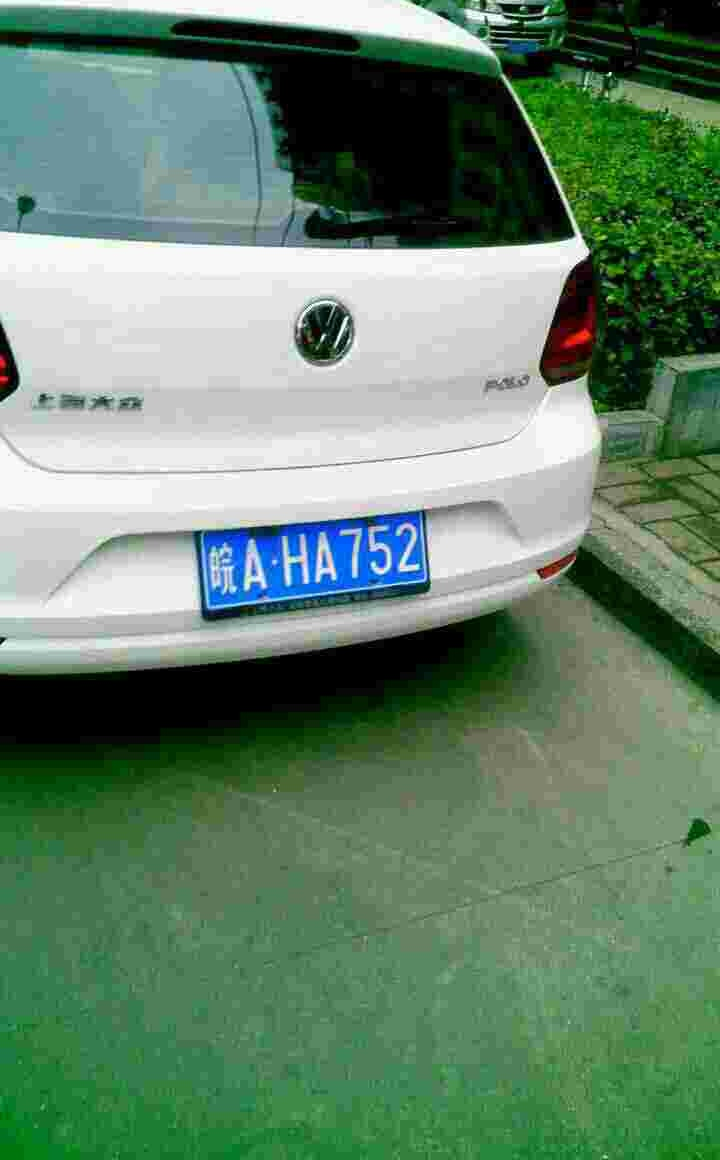license_plate: (206, 507, 432, 613)
